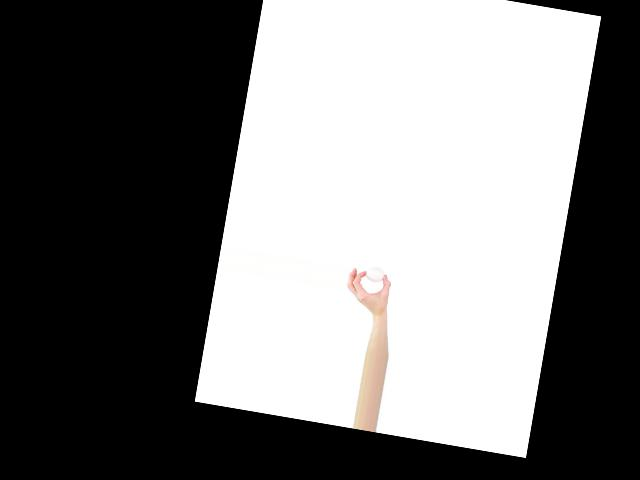egg: (365, 266, 385, 283)
